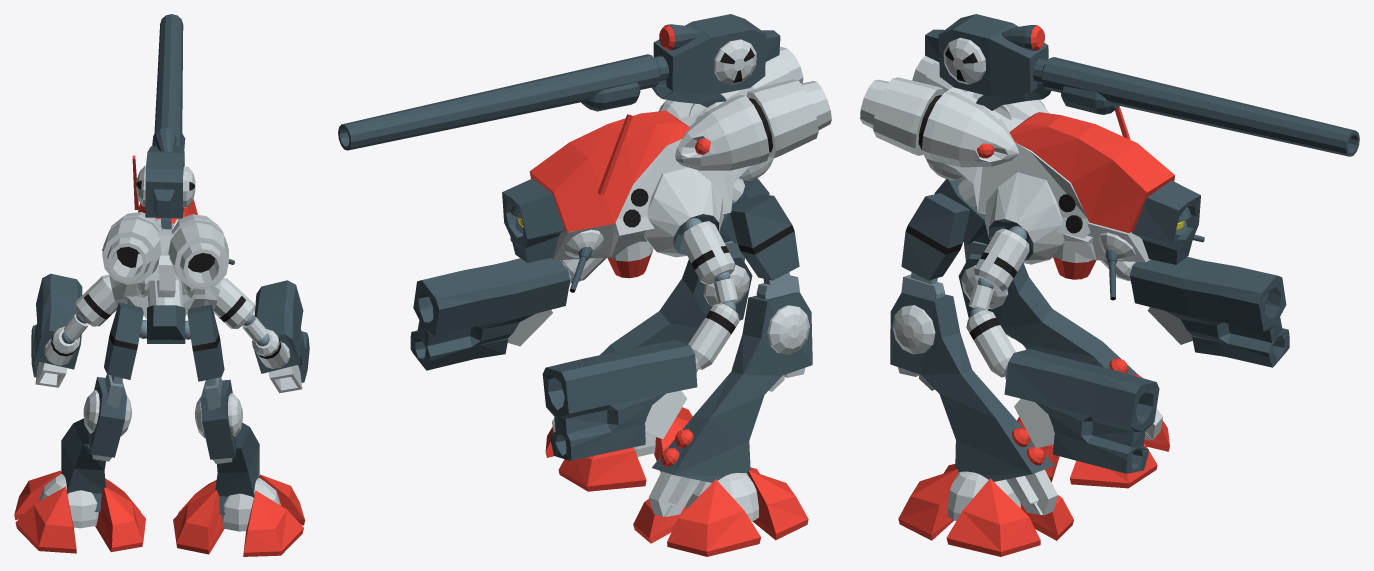
3 renders of one model, left to right at view 1: azimuth 30°, elevation 25°; view 2: azimuth 150°, elevation 25°; view 3: azimuth 270°, elevation 25°, orthographic. The views are drawn at different scales.
Visible parts, largest first — view 1: group_1989965731, group_1252035448, group_1832106782, group_224830677, group_1644946583, group_58765246, group_841152996, mesh_893005595, mesh_81230621, mesh_1538724001, mesh_965854648, mesh_1092948607 (+1 smaller); view 2: group_1989965731, group_1832106782, group_1644946583, group_224830677, group_841152996, mesh_1283648131, group_1252035448, mesh_1178872071, mesh_784989995, mesh_81230621, group_58765246, mesh_1098250012 (+4 smaller); view 3: group_1252035448, group_1832106782, group_224830677, group_1644946583, mesh_1283648131, group_58765246, group_1989965731, mesh_1092948607, mesh_784989995, mesh_81230621, group_841152996, mesh_893005595 (+3 smaller).
Boxes of the visible parts, x1,y1,x2,y2 form: group_1989965731: (14,302,146,553); group_1252035448: (173,304,305,556); group_1832106782: (136,14,195,229); group_224830677: (213,278,309,393); group_1644946583: (31,273,117,387); group_58765246: (168,214,228,289); group_841152996: (102,212,161,284); mesh_893005595: (147,305,185,343); mesh_81230621: (123,223,205,296); mesh_1538724001: (156,254,175,297); mesh_965854648: (147,280,183,306); mesh_1092948607: (187,280,221,313); group_1989965731: (633,193,812,556); group_1832106782: (338,14,780,150); group_1644946583: (542,217,739,460); group_224830677: (410,257,606,370); group_841152996: (675,79,831,170); mesh_1283648131: (529,110,690,232); group_1252035448: (545,232,752,491); mesh_1178872071: (643,167,723,257); mesh_784989995: (502,178,565,262); mesh_81230621: (613,87,754,235); group_58765246: (659,47,803,118); mesh_1098250012: (607,241,653,278); group_1252035448: (890,193,1073,556); group_1832106782: (925,14,1359,156); group_224830677: (966,226,1159,473); group_1644946583: (1100,256,1289,367); mesh_1283648131: (1009,112,1174,232); group_58765246: (860,77,1018,167); group_1989965731: (958,231,1169,488); mesh_1092948607: (984,172,1064,264); mesh_784989995: (1131,180,1200,264); mesh_81230621: (945,87,1090,238); group_841152996: (912,55,1049,120); mesh_893005595: (934,177,986,245).
Bounding box in the file's own units: 109 × 136 × 132.
